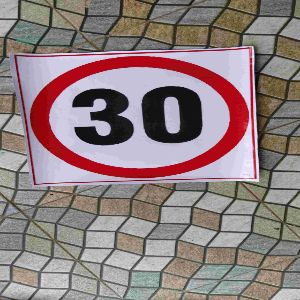speedlimit30: (16, 53, 256, 181)
